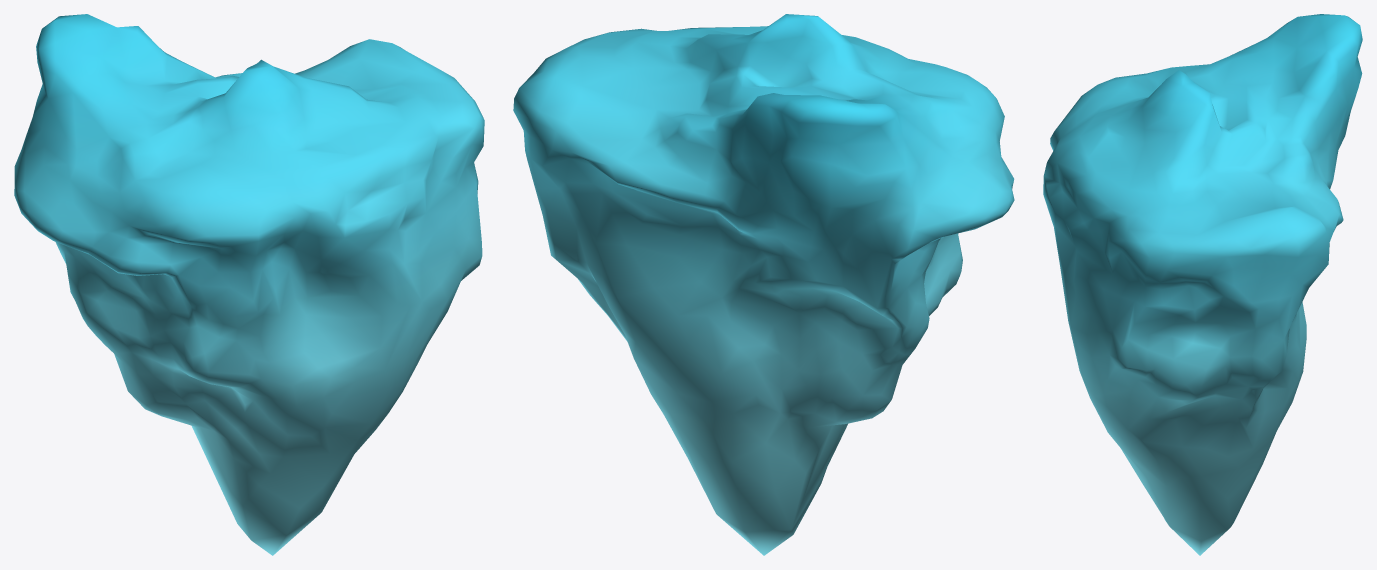
File: iceberg_006.fbx
The picture shows the model from 3 angles, left to right: view 1: azimuth 30°, elevation 25°; view 2: azimuth 150°, elevation 25°; view 3: azimuth 270°, elevation 25°; orthographic projection. The views are drawn at different scales.
Parts seen in each view (by area): view 1: iceberg_006; view 2: iceberg_006; view 3: iceberg_006.
Boxes of the visible parts, left/top/right/bottom form: iceberg_006: left=14, top=14, right=484, bottom=555; iceberg_006: left=513, top=14, right=1014, bottom=555; iceberg_006: left=1043, top=14, right=1362, bottom=555.
Bounding box in the file's own units: 2267 × 1587 × 2614.
